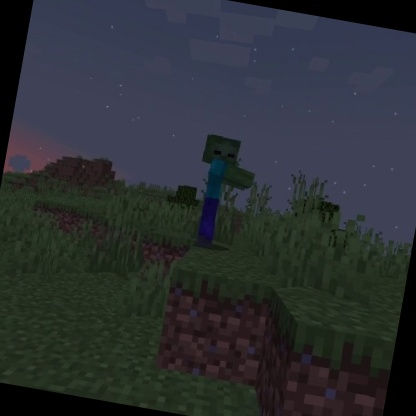zombie: (182, 130, 265, 259)
